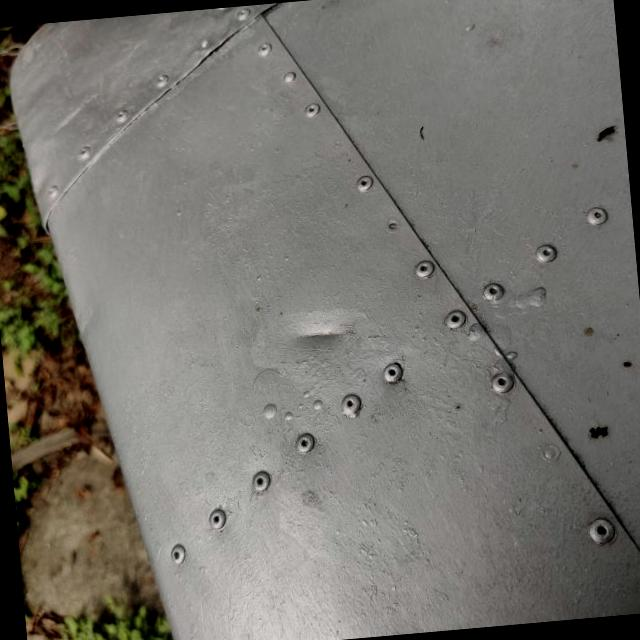dent: (264, 284, 370, 384)
